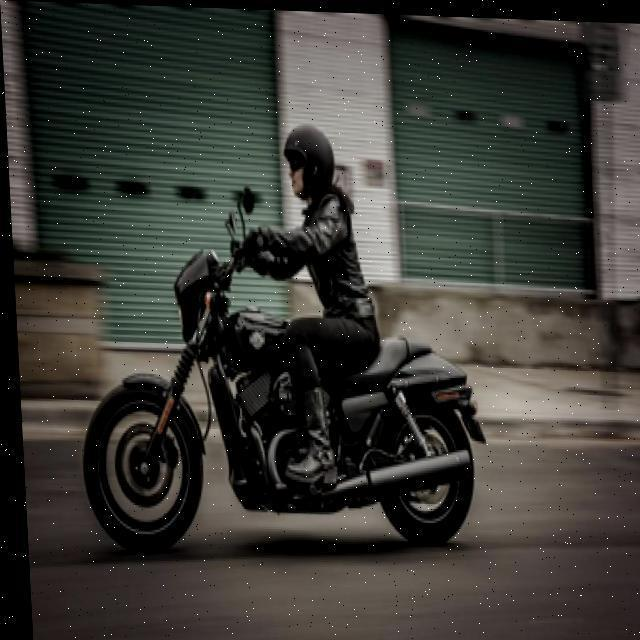Helmet: (276, 104, 341, 206)
